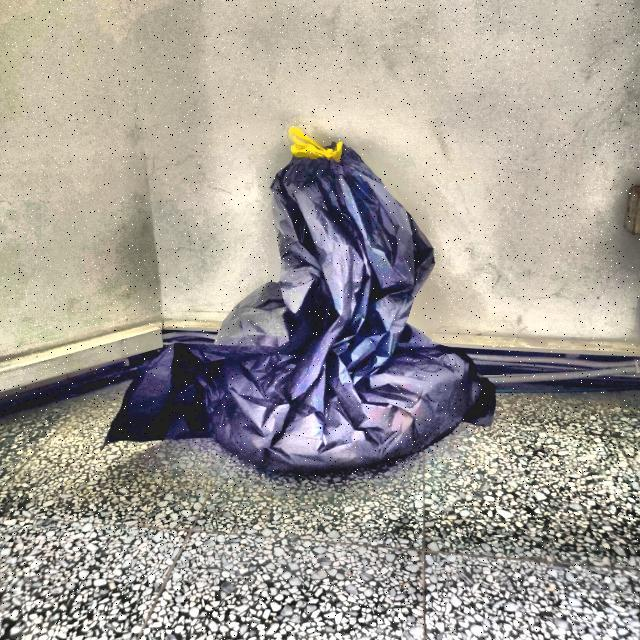Trashbag: (123, 125, 489, 473)
